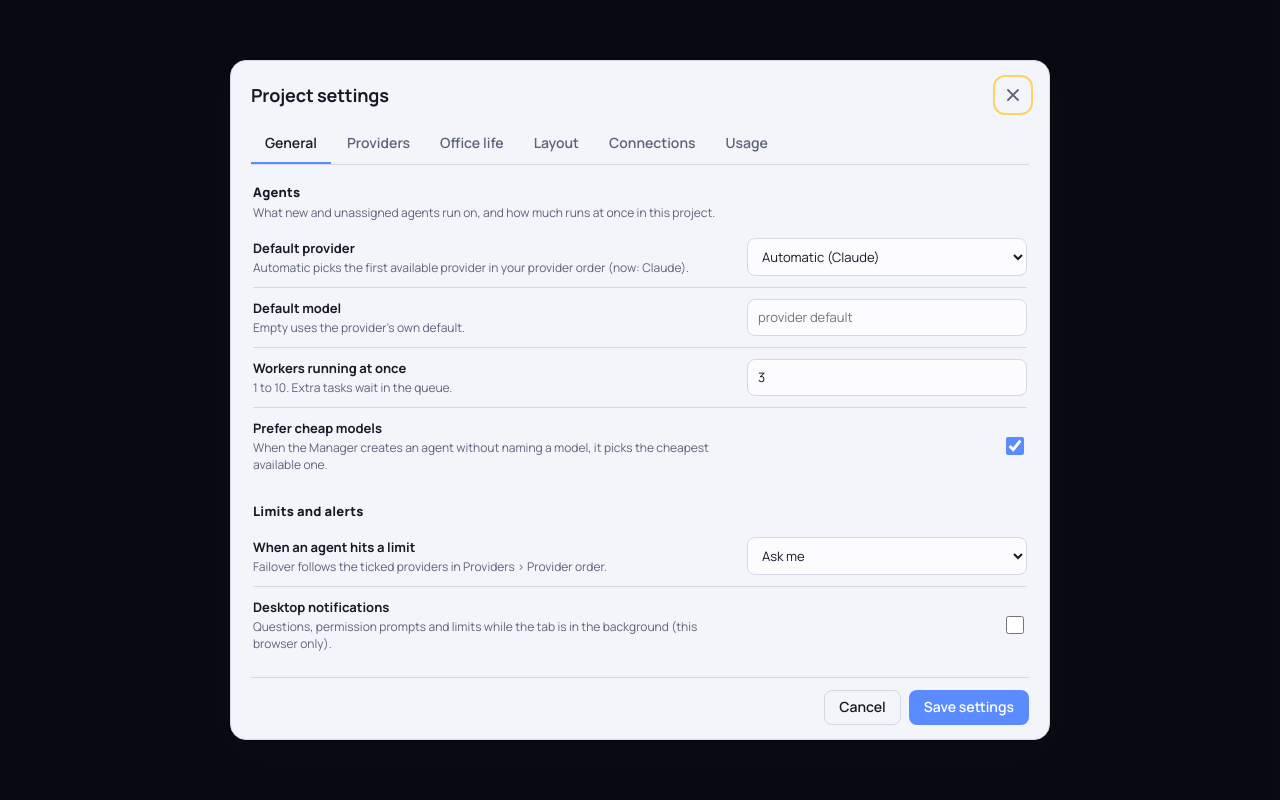
Test: SettingsModal with limited provider › opens the Usage panel tab
The image size is (1280, 800).
Click the tab "Usage".
click(747, 144)  # box [712,125,782,164]
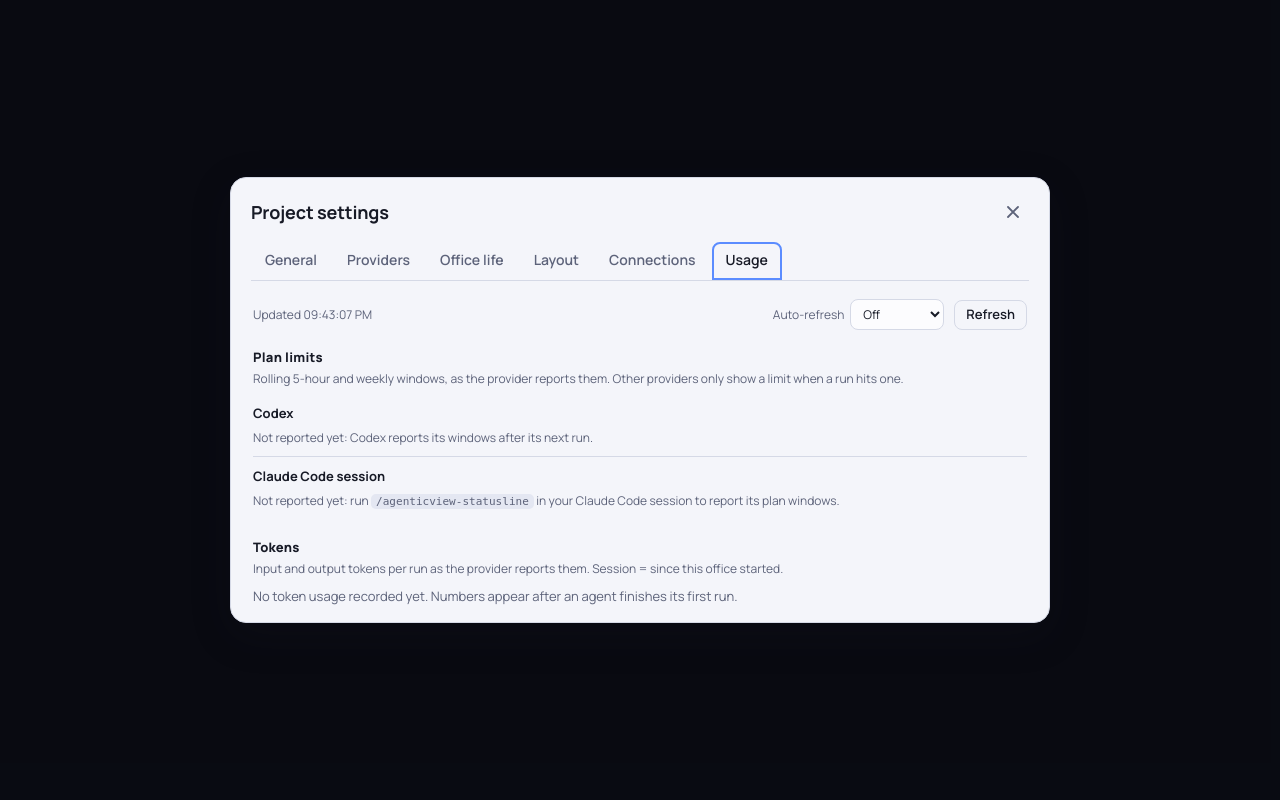
Expected: the text "No token usage" is shown, [253,587,737,605]
